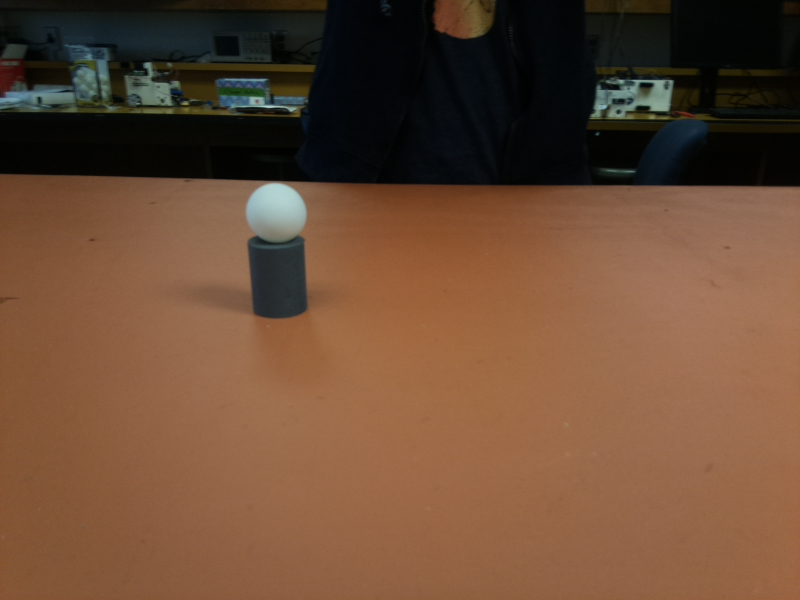obstacle: (248, 183, 306, 316)
